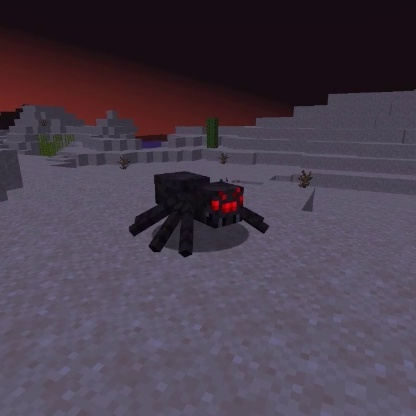spider: (126, 168, 272, 261)
